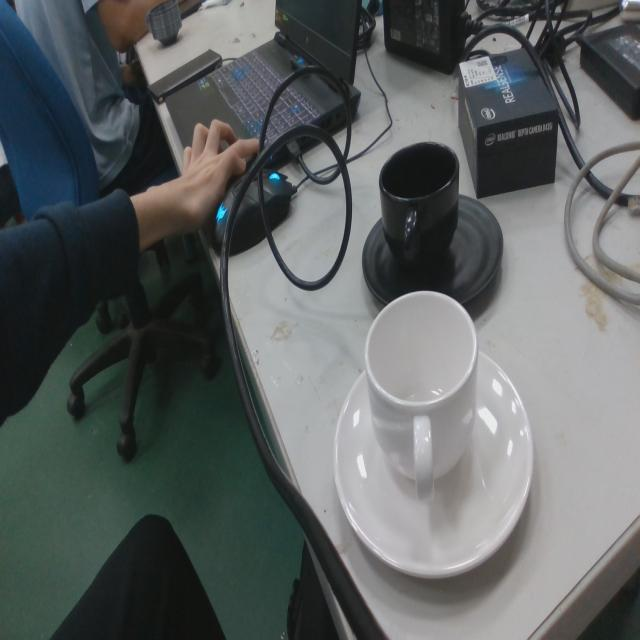black: (360, 136, 505, 308)
white: (331, 287, 536, 585)
